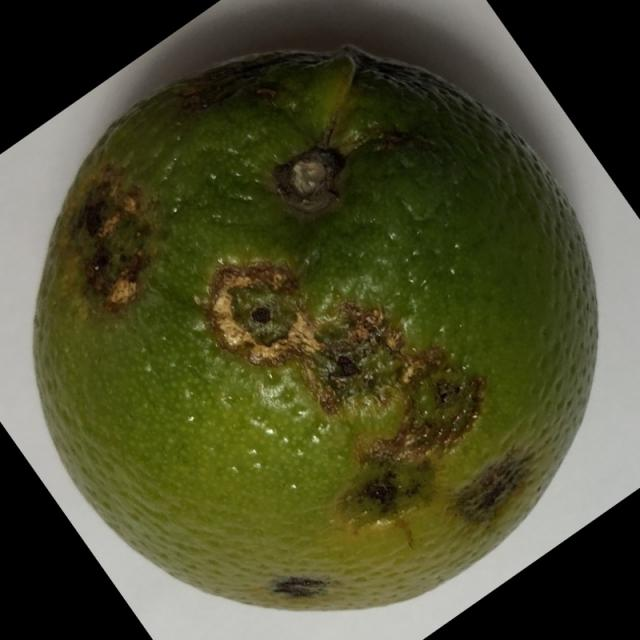canker: (22, 4, 610, 629)
